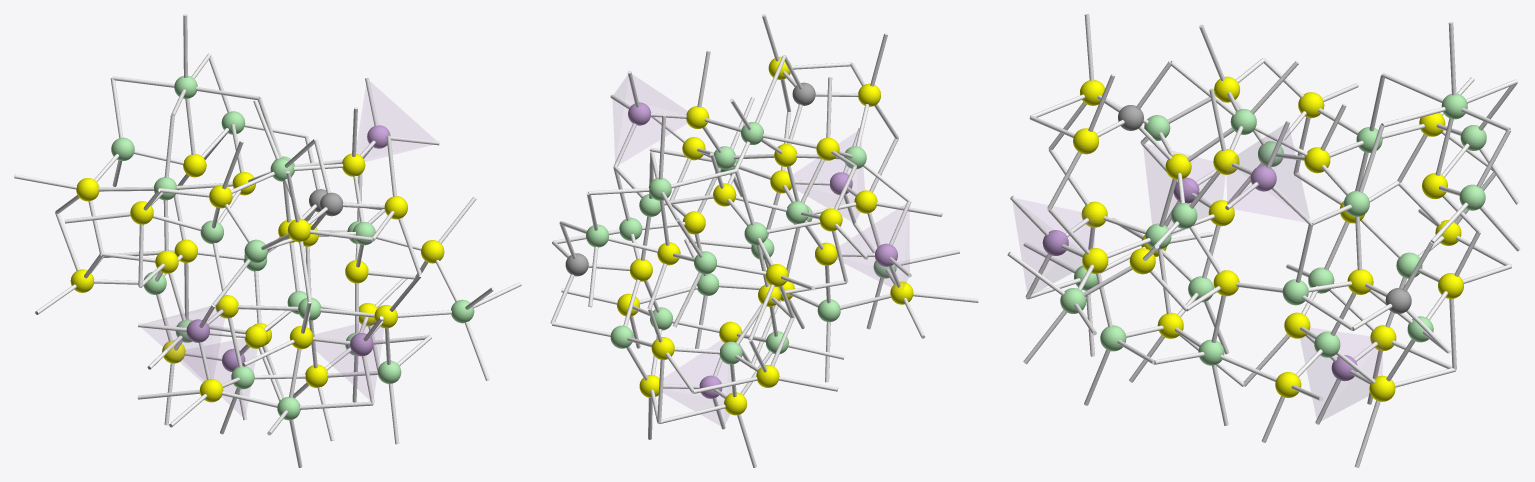
The model's file is structure_mpstyle.glb.
3 views of the same model, side by side, from view 1: azimuth 30°, elevation 25°; view 2: azimuth 150°, elevation 25°; view 3: azimuth 270°, elevation 25° (orthographic). The views are drawn at different scales.
Visible parts, largest first — view 1: world; view 2: world; view 3: world.
Part boxes in pixels (bbox=[...]): world: bbox=[14, 14, 521, 467]; world: bbox=[550, 14, 978, 467]; world: bbox=[1007, 14, 1520, 467].
Bounding box in the file's own units: 13.45 × 14.01 × 15.72.
